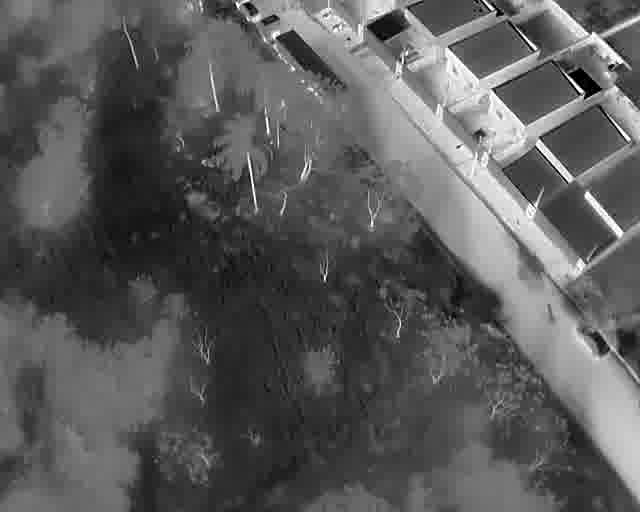car: (574, 319, 610, 362), (234, 0, 261, 23), (467, 126, 496, 143)
truck: (255, 13, 346, 97)
